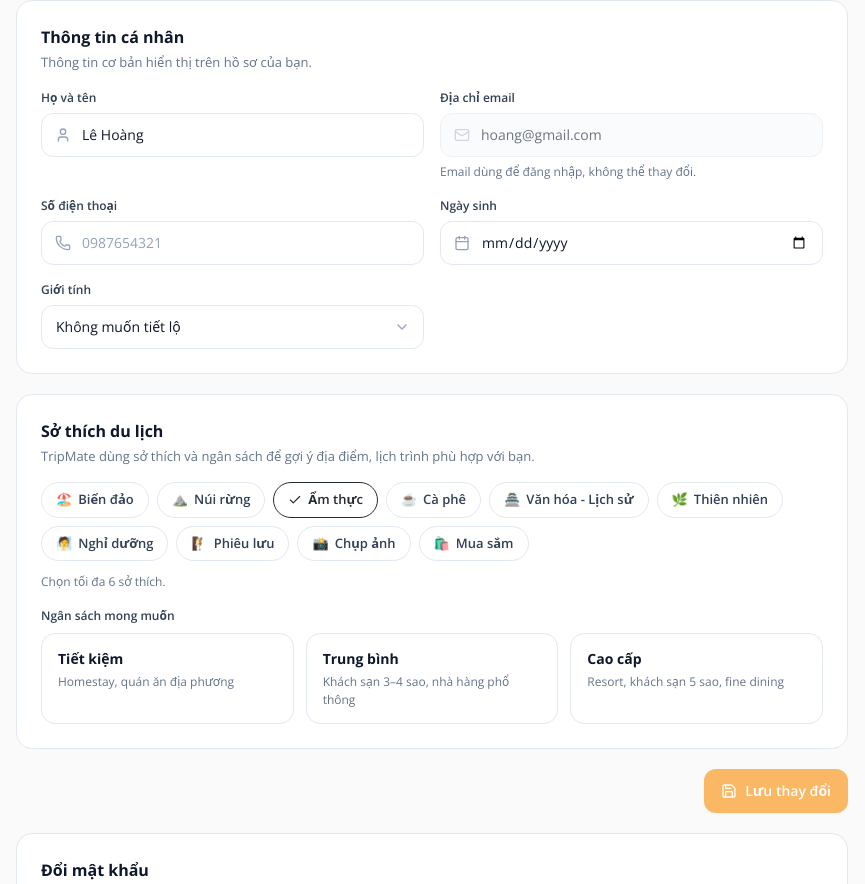
Test: Tab Cài đặt tài khoản › báo lỗi khi số điện thoại sai định dạng, không gọi API
In the field labelled "Số điện thoại": (232, 242) [41, 220, 424, 264], type "12345"
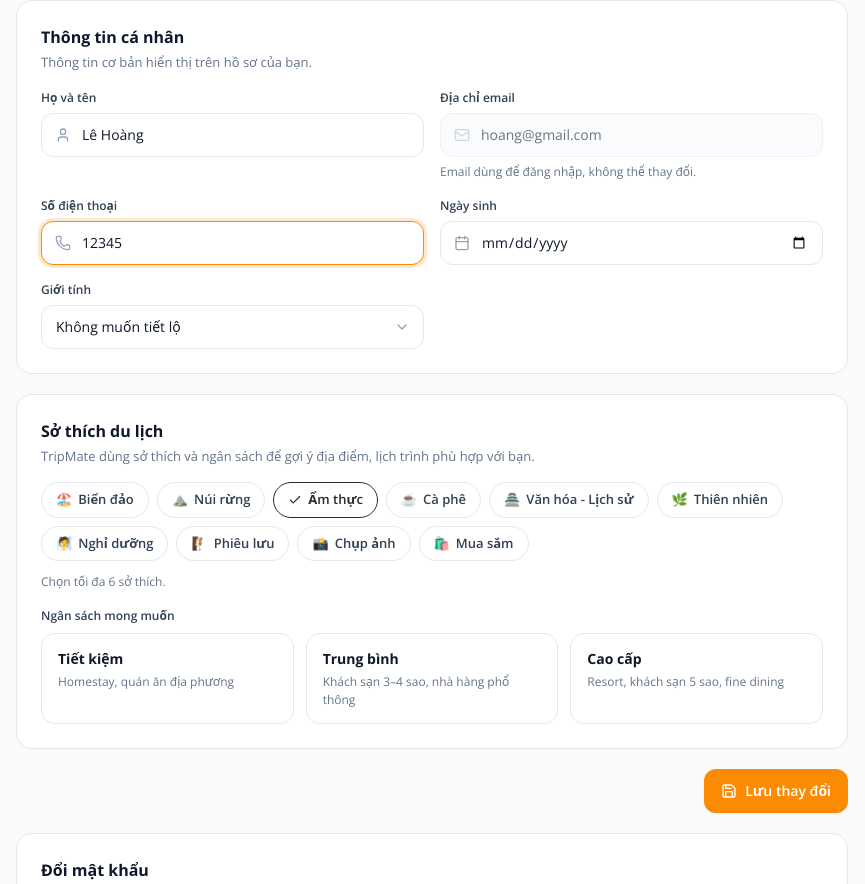
Click the button "Lưu thay đổi": (776, 791) [704, 769, 848, 813]
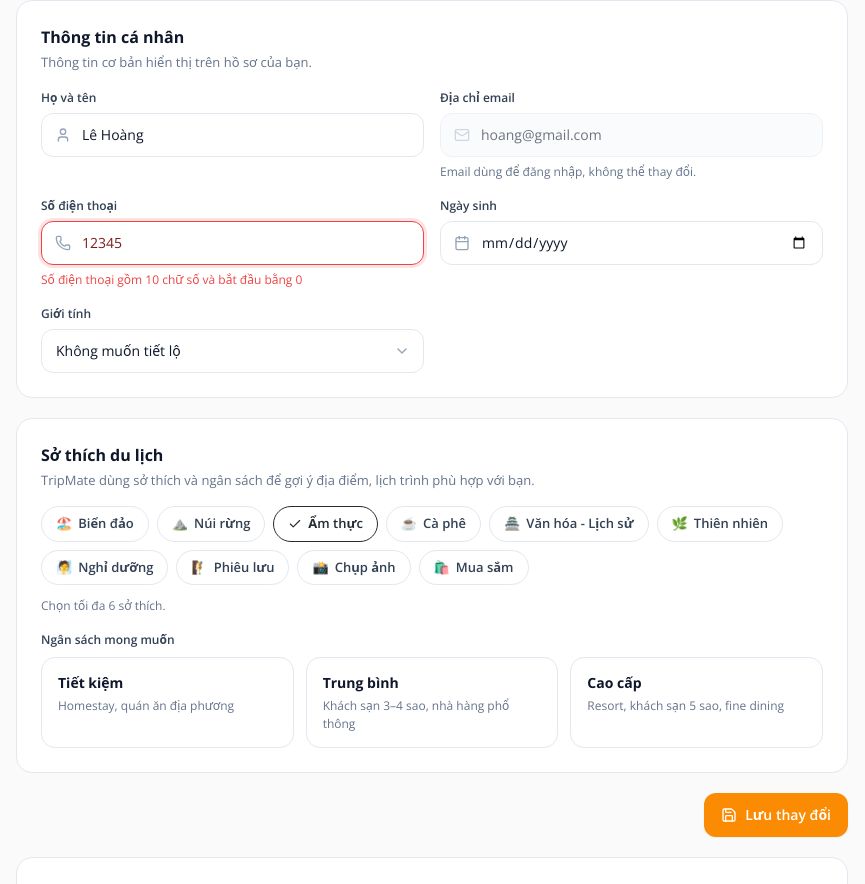
Expected: the text "Số điện thoại gồm 10 chữ số và bắt đầu bằng 0" is shown, [41, 270, 302, 288]
